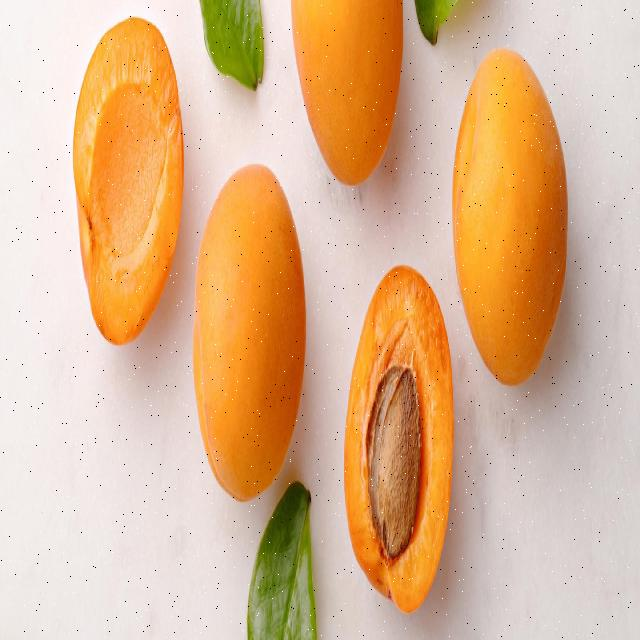Cekirdek: (369, 366, 421, 563)
Kayisi: (453, 48, 568, 383), (345, 266, 453, 612), (195, 166, 305, 499), (74, 18, 184, 343), (292, 0, 403, 183)
Yaprak: (248, 483, 317, 639)
